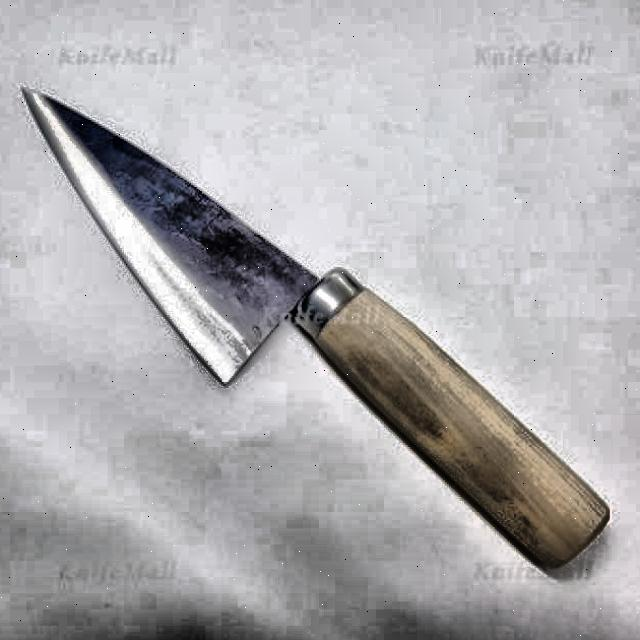knife: (16, 82, 614, 575)
